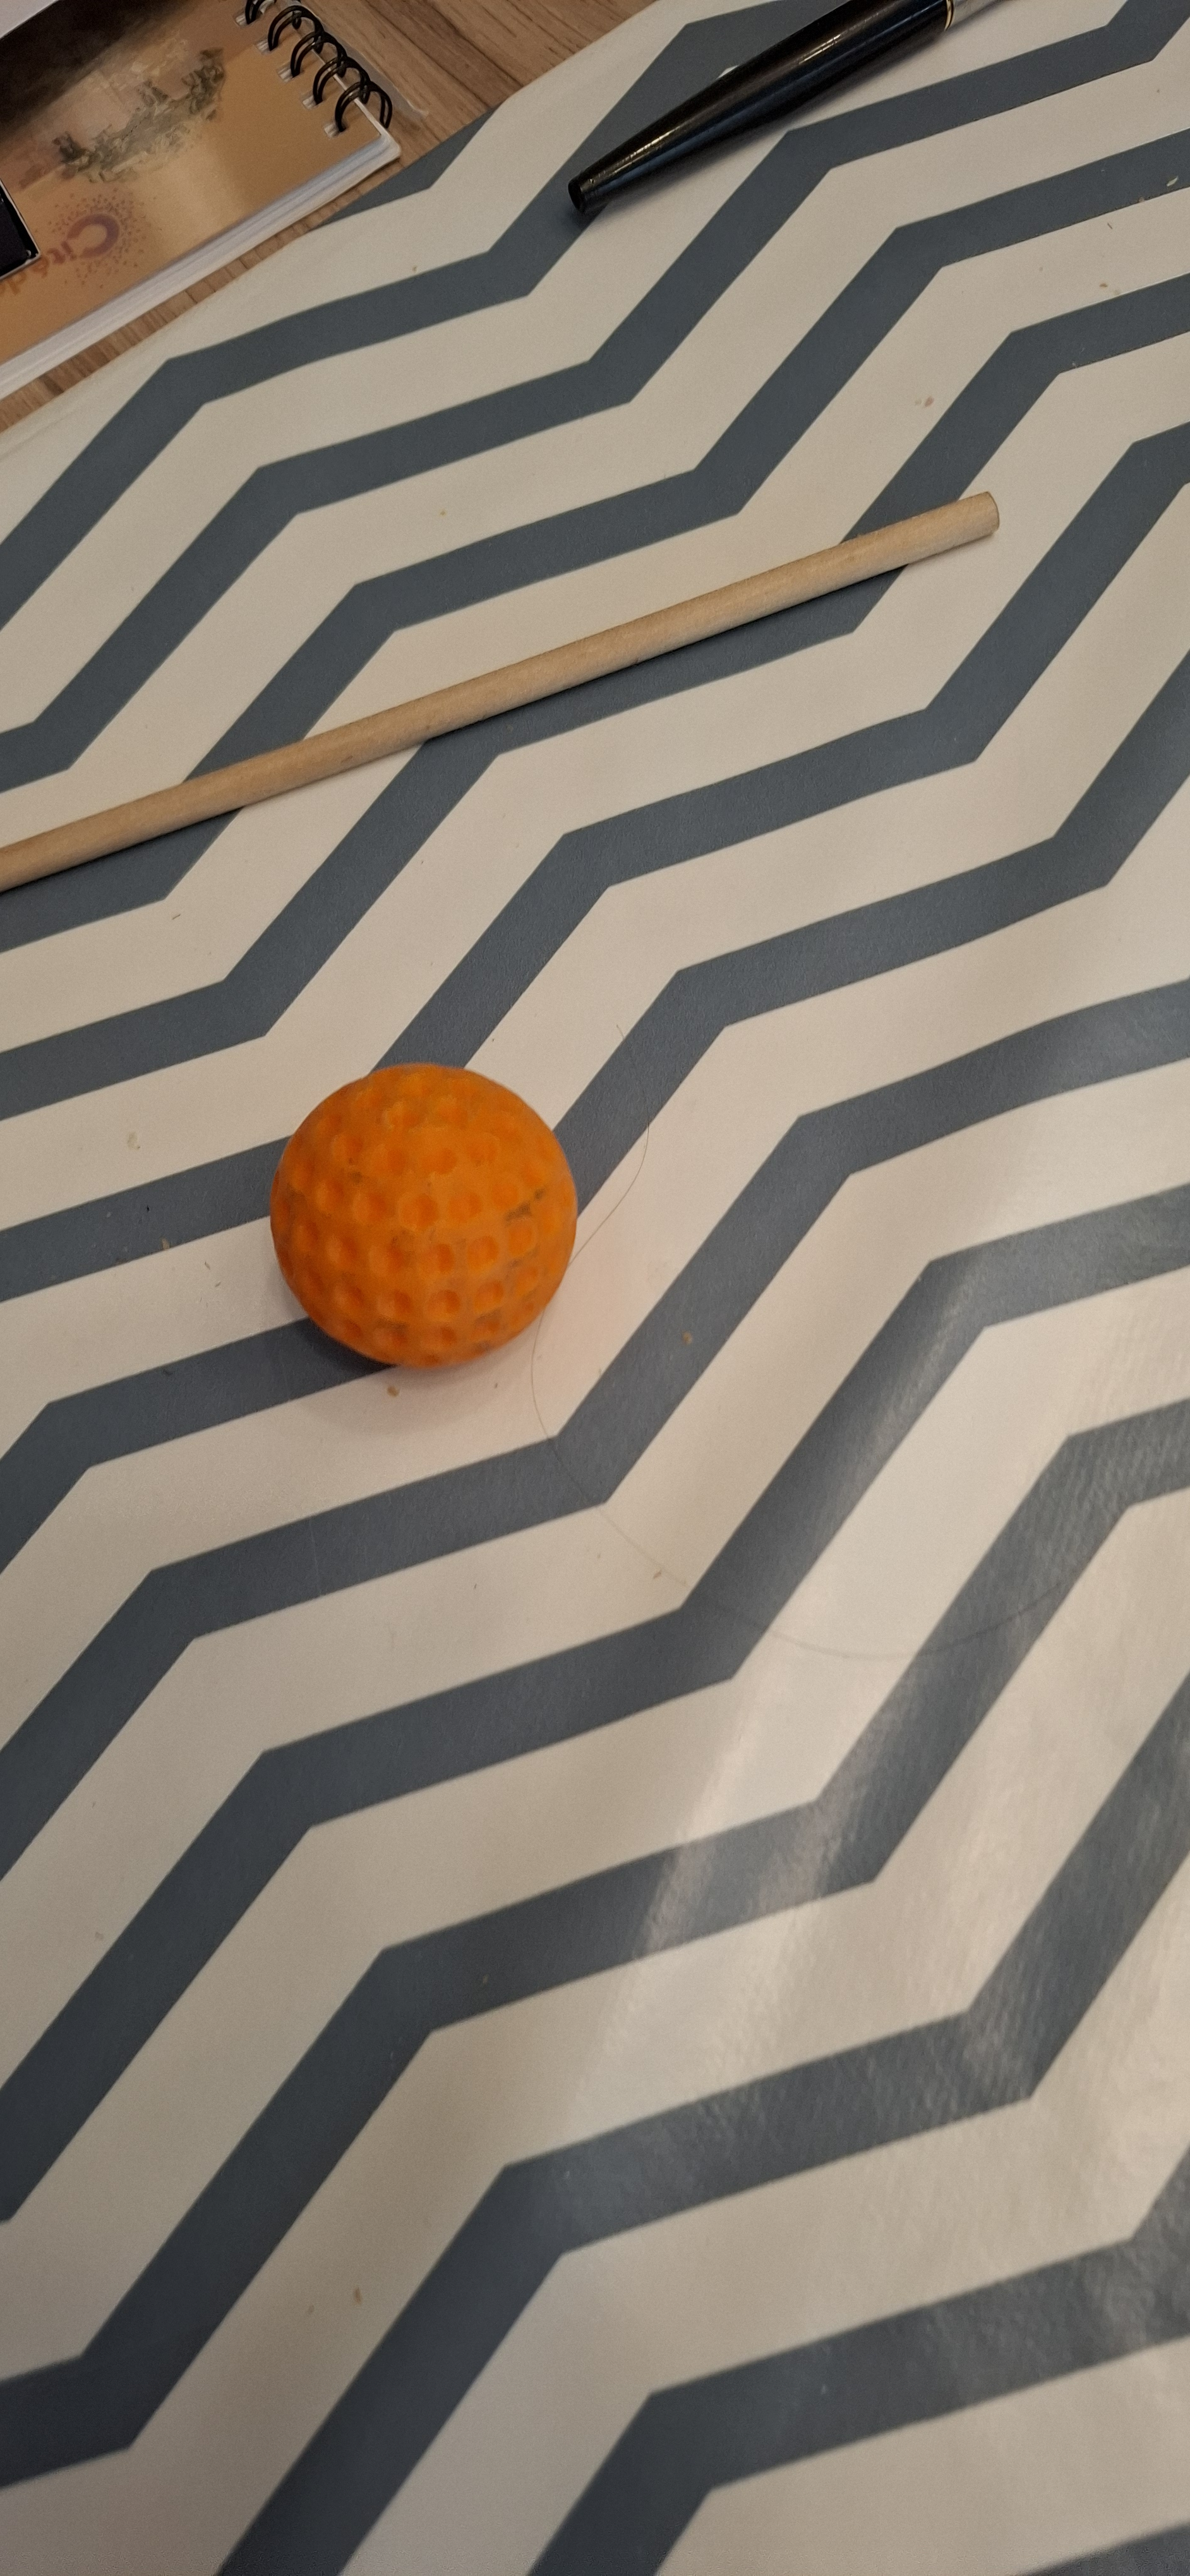ball: (491, 1331, 633, 1993)
